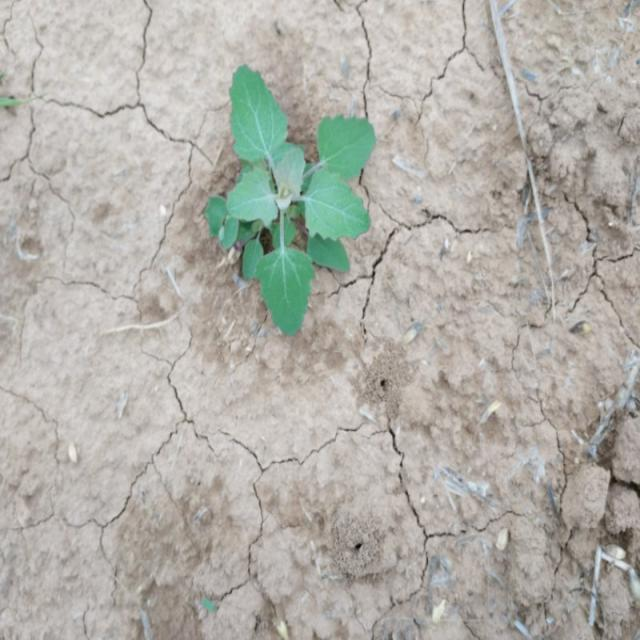goosefoots: (171, 69, 415, 338)
